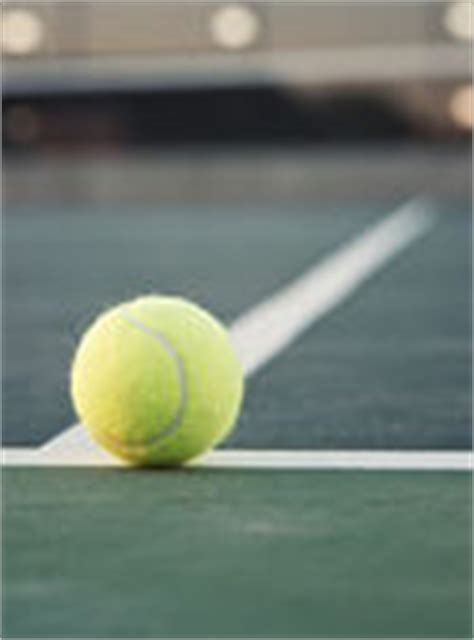tennis_ball: (66, 292, 246, 467)
